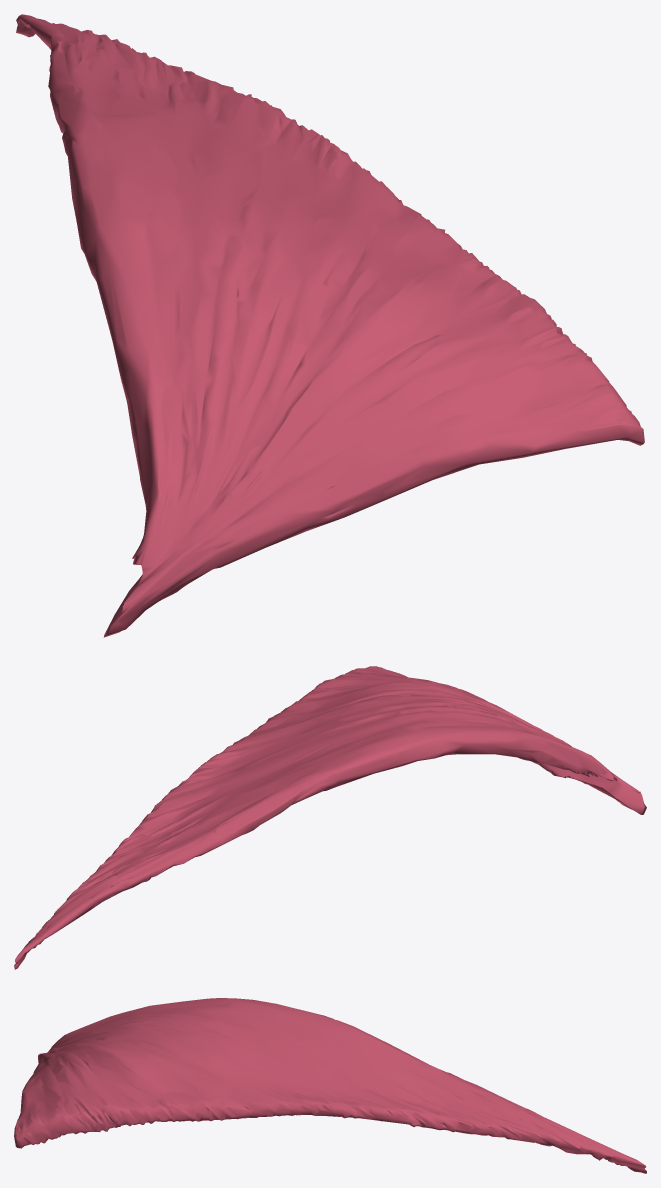
3 renders of one model, top to bottom at view 1: azimuth 30°, elevation 25°; view 2: azimuth 150°, elevation 25°; view 3: azimuth 270°, elevation 25°, orthographic. The views are drawn at different scales.
Visible parts, largest first — view 1: 右侧斜方肌降部; view 2: 右侧斜方肌降部; view 3: 右侧斜方肌降部.
Part boxes in pixels (x1,y1,x2,y2): 右侧斜方肌降部: (16, 14, 644, 637); 右侧斜方肌降部: (14, 666, 646, 969); 右侧斜方肌降部: (14, 998, 646, 1173).
Bounding box in the file's own units: 0.2044 × 0.0899 × 0.4335.
